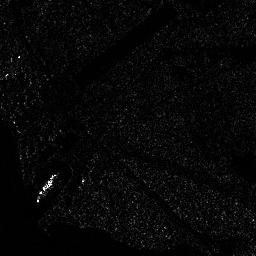ship: (37, 173, 57, 203)
